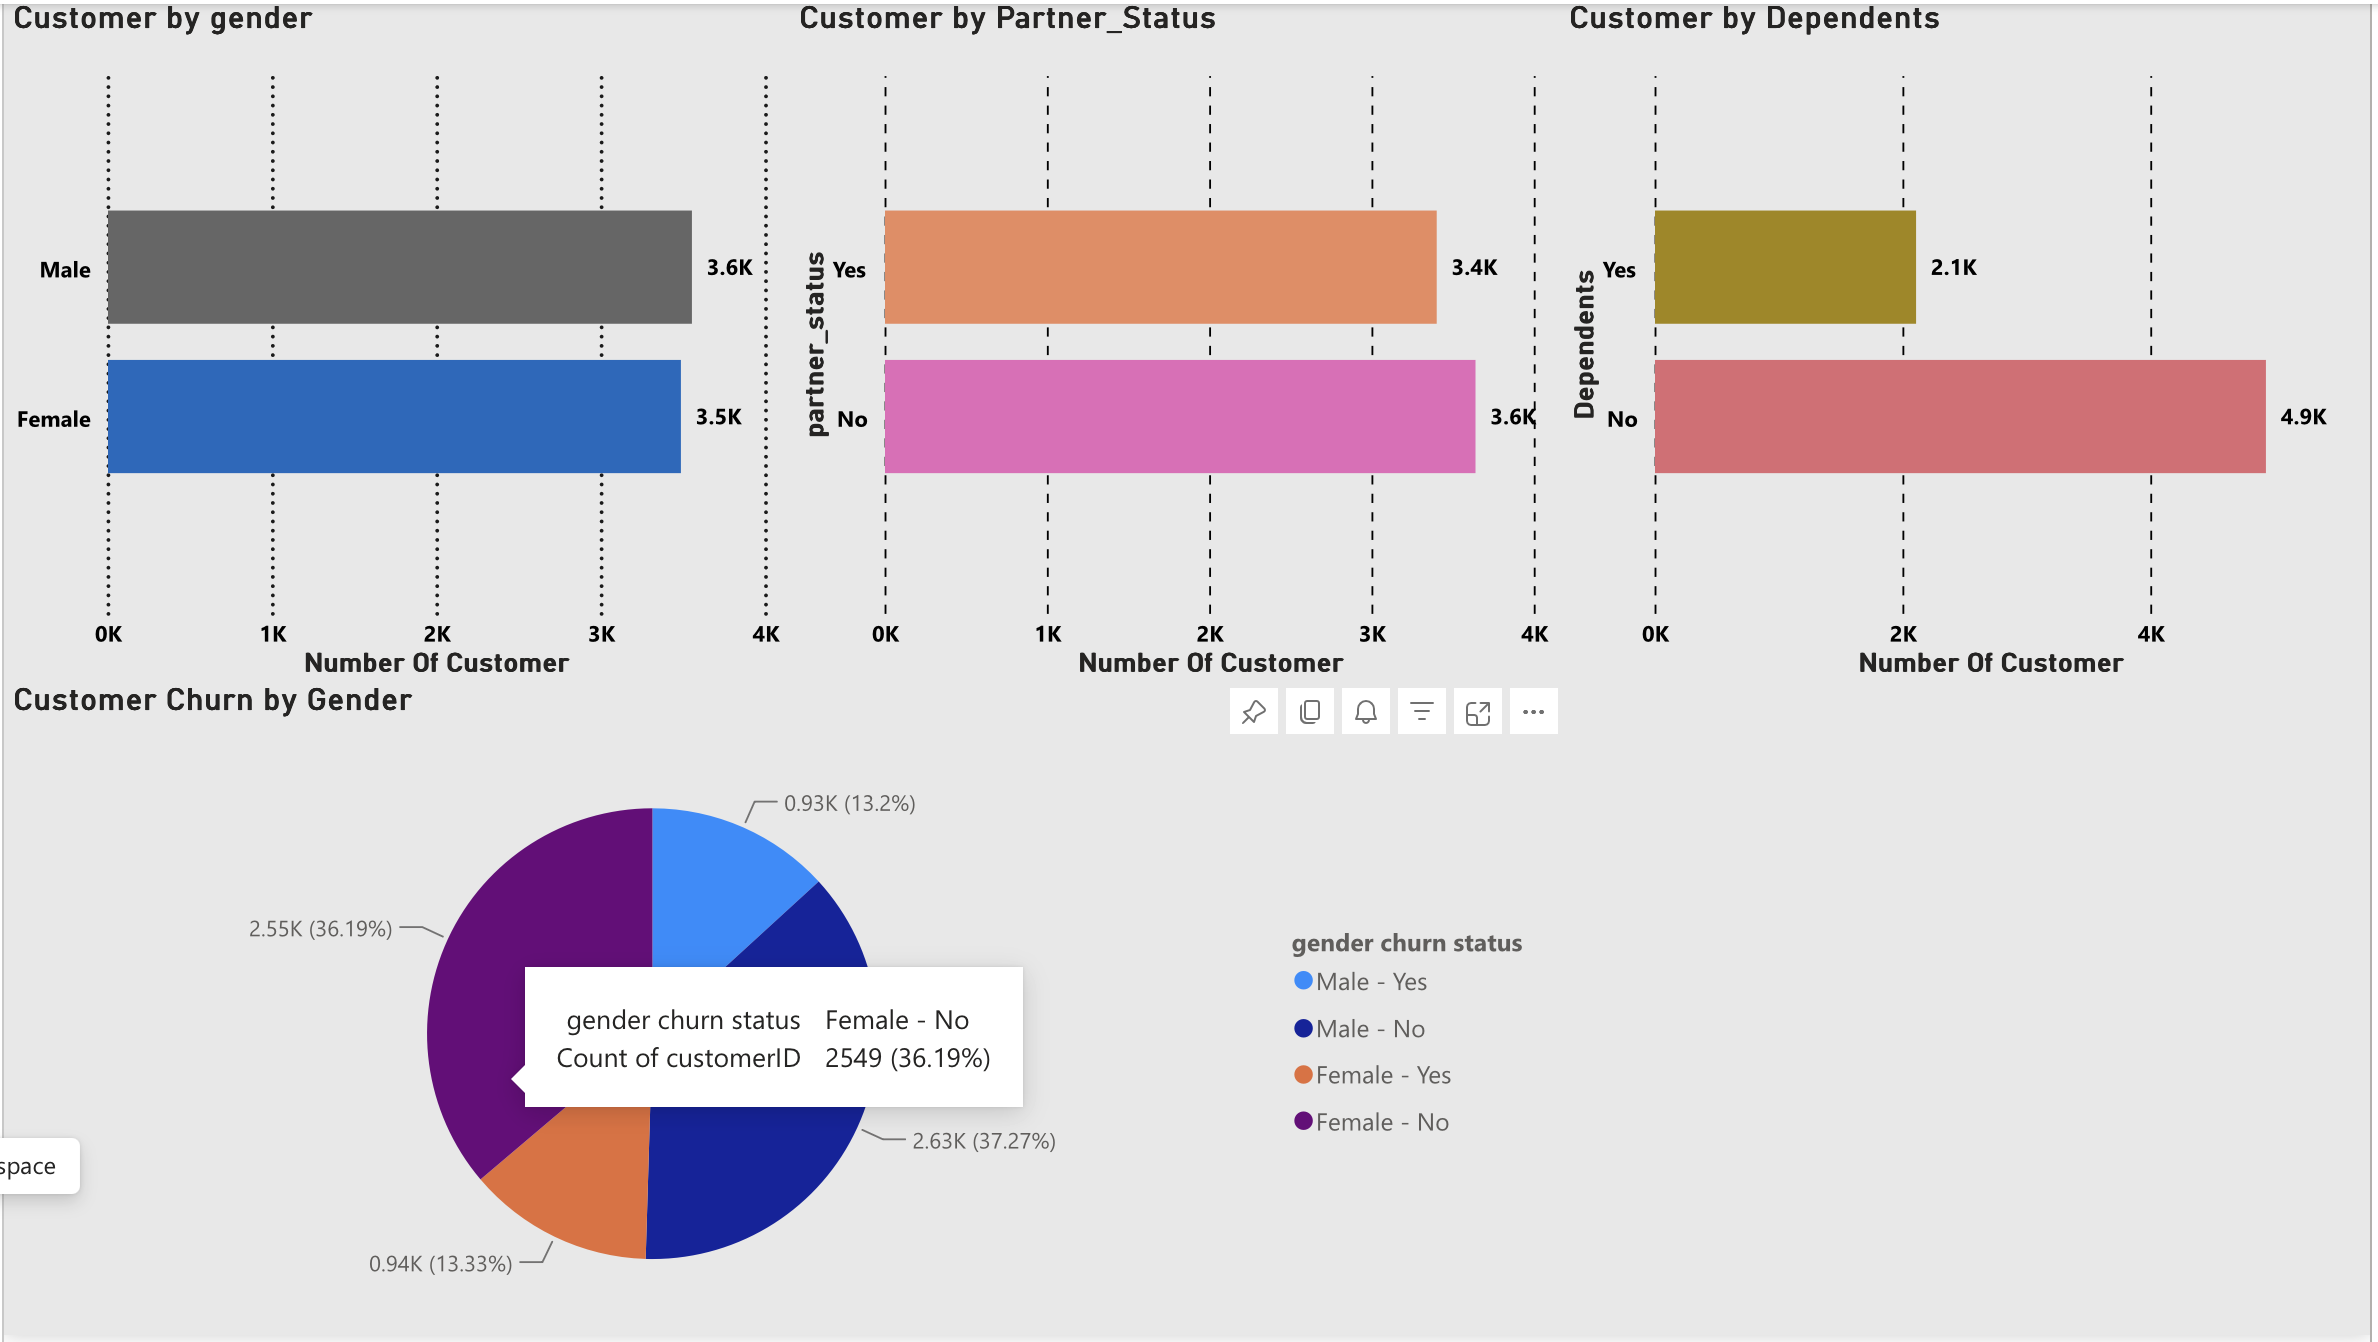

The dashboard page shown, as its layout file describes it:
{"tool":"powerbi","page":{"name":"Customer Demographics","canvas":[1280,720],"ordinal":1},"visuals":[{"type":"clusteredBarChart","title":"Customer by gender","fields":{"Category":["Telco_Customer_Churn_Dataset  (2).gender"],"Y":["Telco_Customer_Churn_Dataset  (2).Total Customer"]},"box":[0,0,424.7,369.5],"z":0},{"type":"clusteredBarChart","title":"Customer by Partner_Status","fields":{"Category":["Telco_Customer_Churn_Dataset  (2).Partner"],"Y":["CountNonNull(Telco_Customer_Churn_Dataset  (2).customerID)"]},"box":[424.7,0,416.8,369.5],"z":1000},{"type":"clusteredBarChart","title":"Customer by Dependents","fields":{"Category":["Telco_Customer_Churn_Dataset  (2).Dependents"],"Y":["CountNonNull(Telco_Customer_Churn_Dataset  (2).customerID)"]},"box":[841.6,0,427.9,369.5],"z":2000},{"type":"pieChart","title":"Customer Churn by Gender","fields":{"Category":["Telco_Customer_Churn_Dataset  (2).gender churn status"],"Y":["Count(Telco_Customer_Churn_Dataset  (2).customerID)"]},"box":[0,369.5,841.6,350.5],"z":3000}]}

Visuals, with their boxes in screenshot pixels (x1, y1, x2, y2), scaled from the page's 1280x720 canvas onto the 2378x1342 screenshot:
"Customer by gender" clusteredBarChart: locate(0, 0, 789, 689)
"Customer by Partner_Status" clusteredBarChart: locate(789, 0, 1563, 689)
"Customer by Dependents" clusteredBarChart: locate(1564, 0, 2358, 689)
"Customer Churn by Gender" pieChart: locate(0, 689, 1564, 1341)
